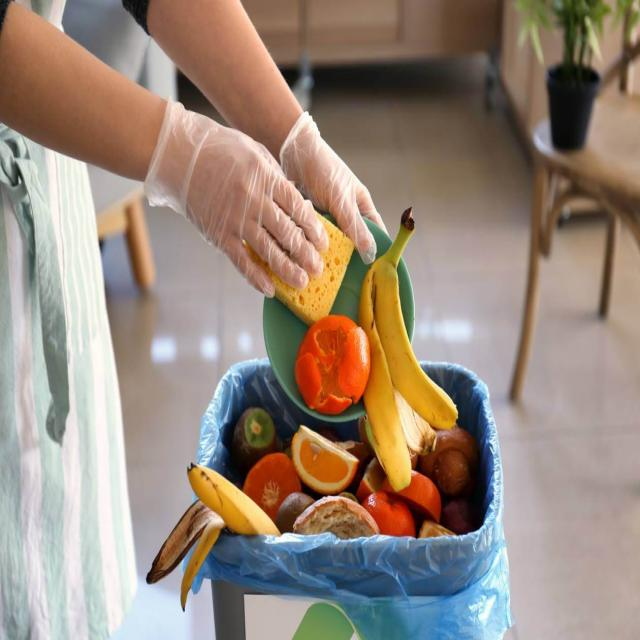Wet: (365, 197, 432, 506), (186, 452, 276, 550), (291, 310, 370, 411), (291, 418, 360, 487)
